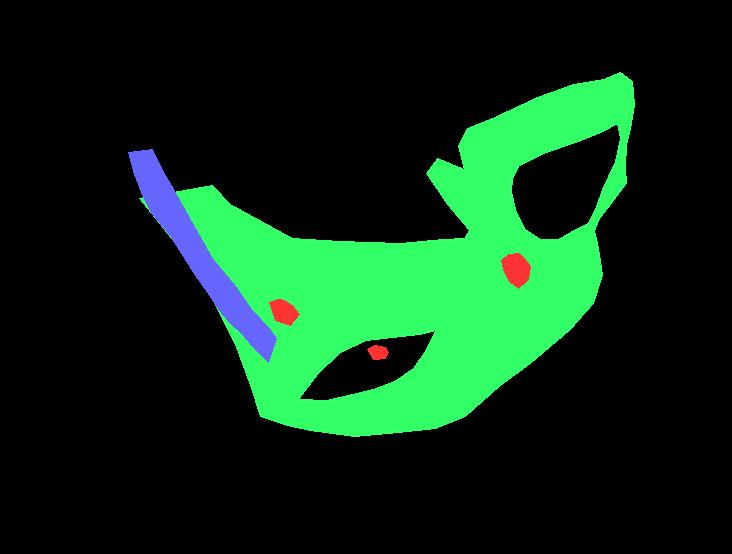Broken part: (139, 72, 634, 436)
Missing part: (501, 253, 530, 288), (269, 299, 299, 325), (367, 345, 388, 359)
Scratch: (128, 149, 276, 362)
